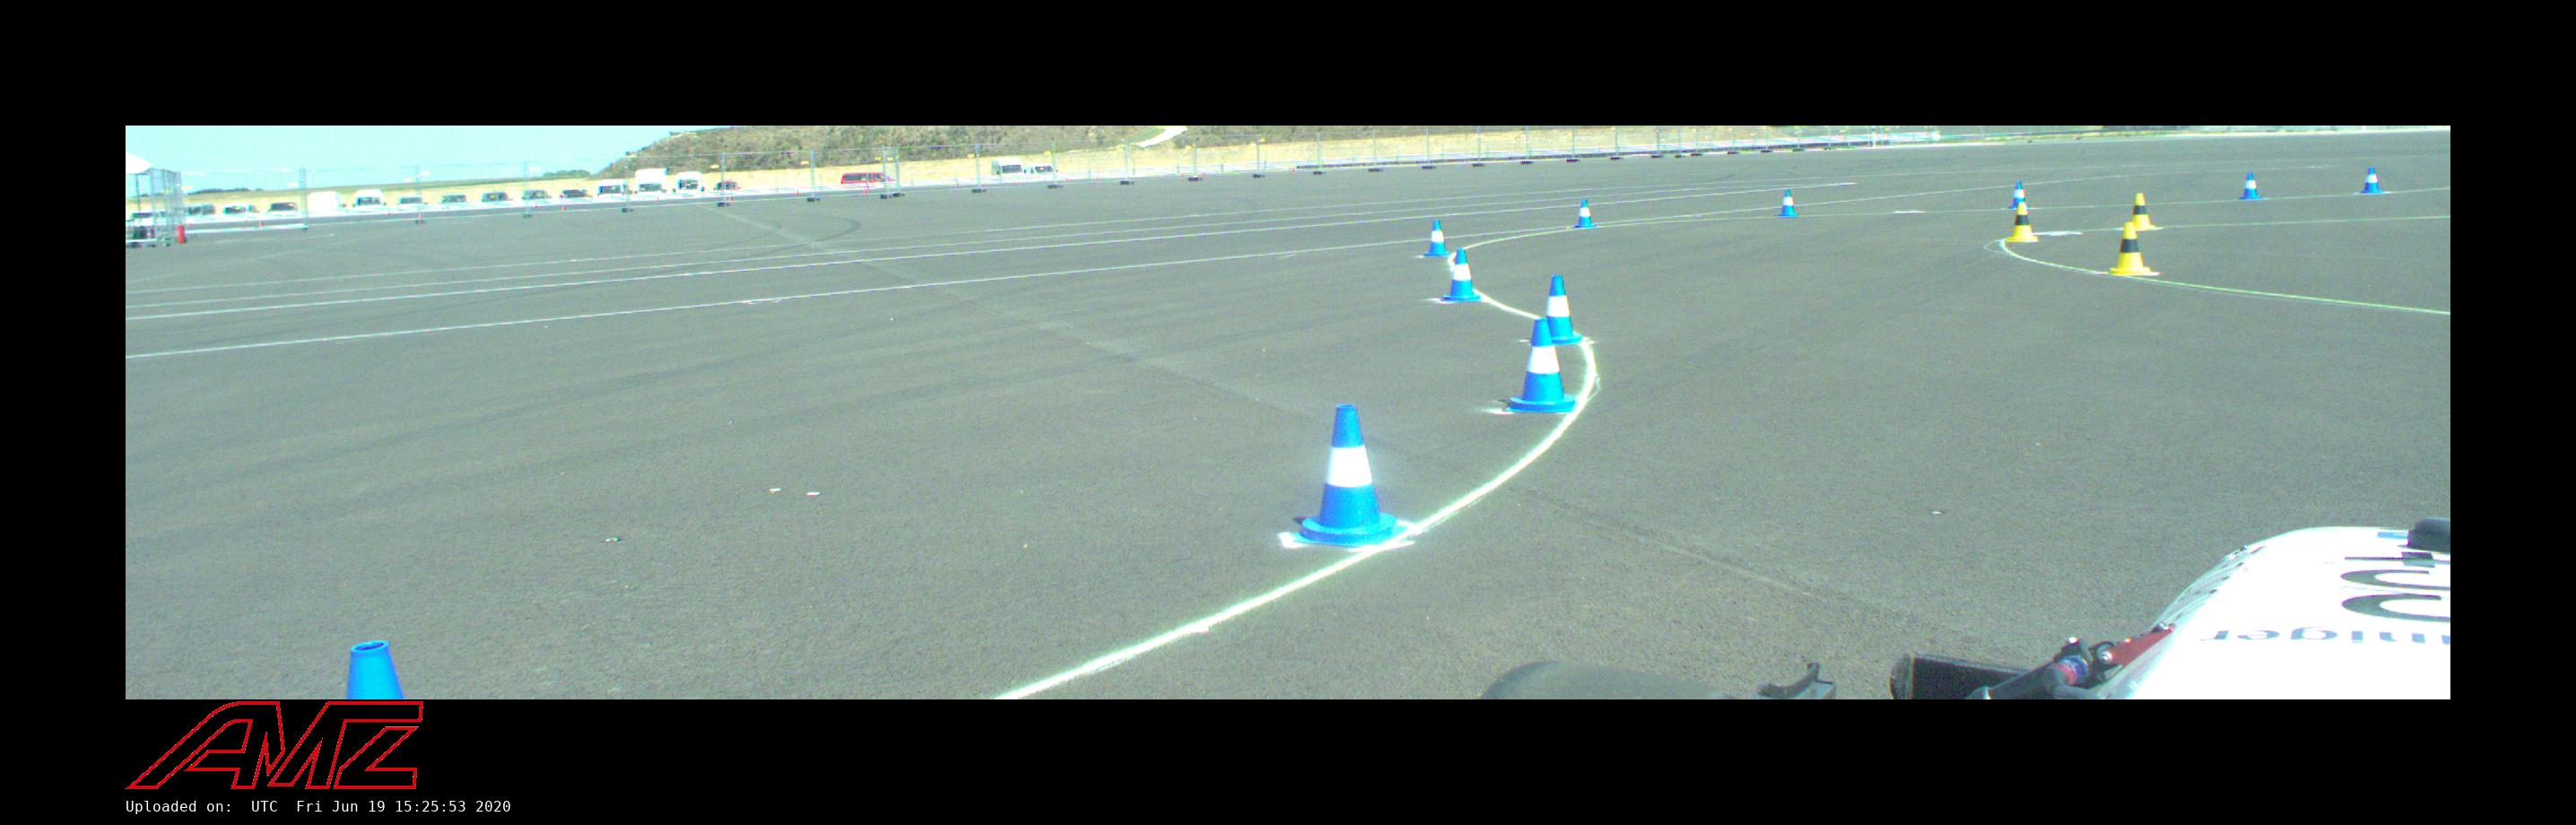blue_cone: (1293, 404, 1406, 546), (1506, 319, 1579, 412), (1536, 278, 1582, 342), (1442, 250, 1480, 301), (1426, 220, 1449, 256), (1778, 189, 1799, 219), (1574, 199, 1594, 228), (2361, 168, 2382, 194), (2239, 173, 2259, 199), (2009, 182, 2027, 209)
yellow_cone: (2109, 222, 2151, 273), (2008, 204, 2037, 240), (2126, 194, 2155, 230)
